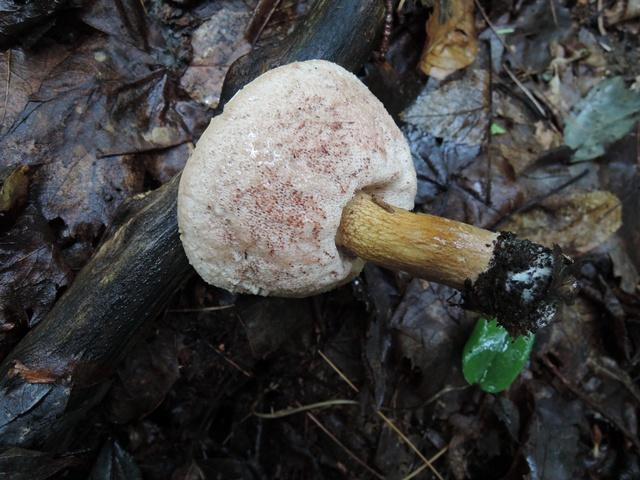Non-edible Mushroom: (175, 57, 575, 339)
